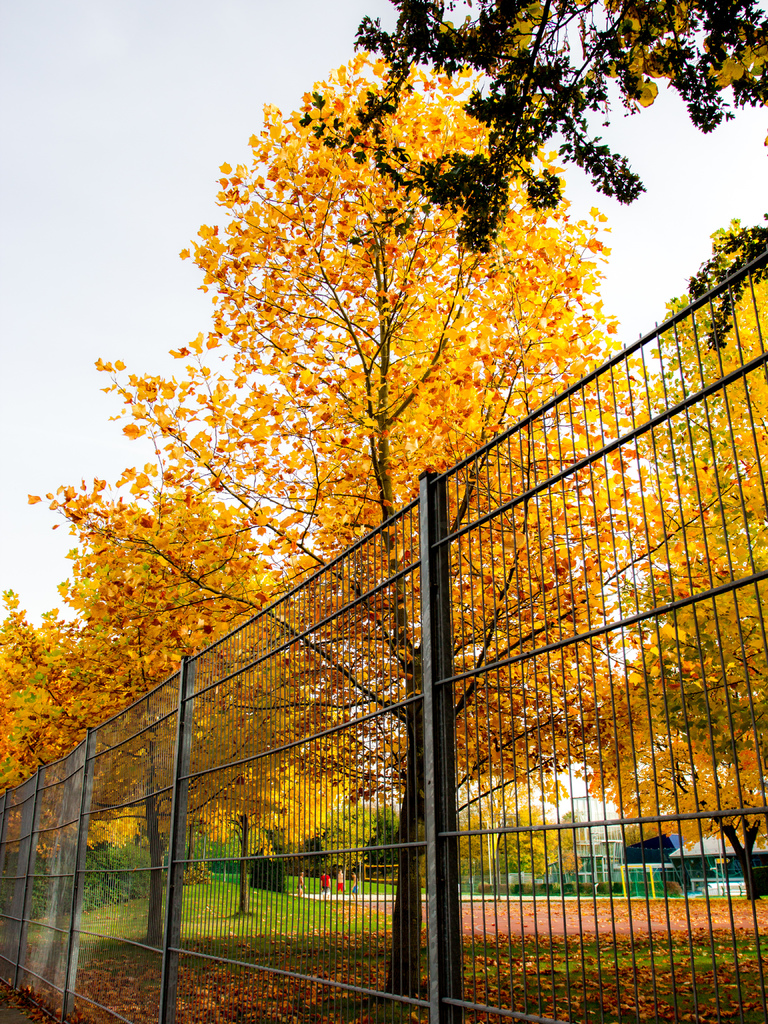Tree: (0, 0, 767, 1015)
